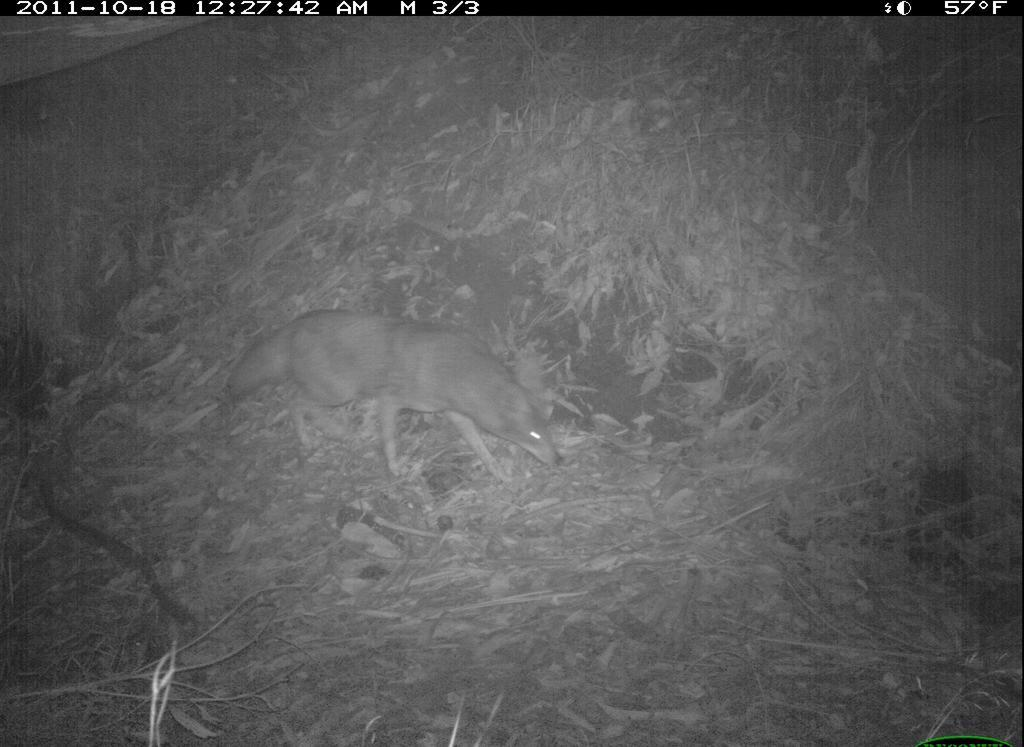coyote: (227, 301, 569, 497)
